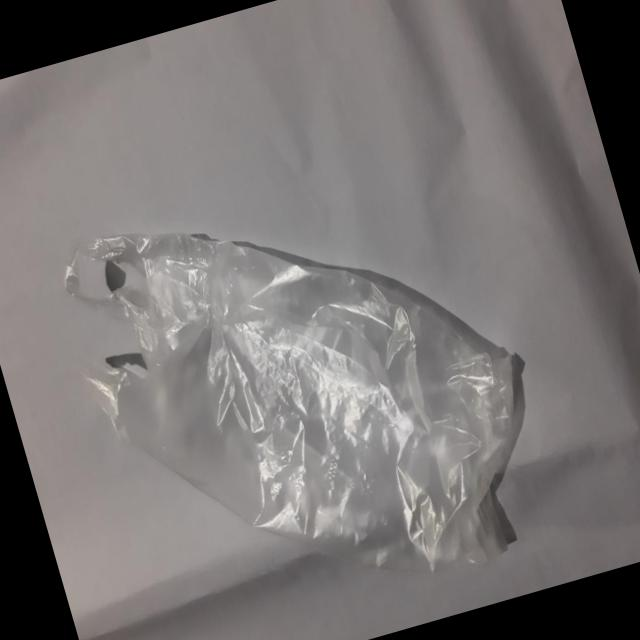KemasanPlastik: (45, 133, 575, 640)
